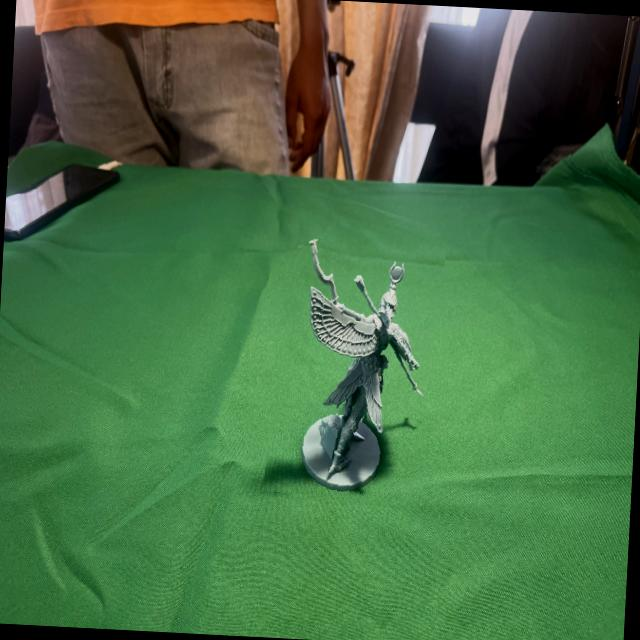isis: (268, 222, 442, 509)
